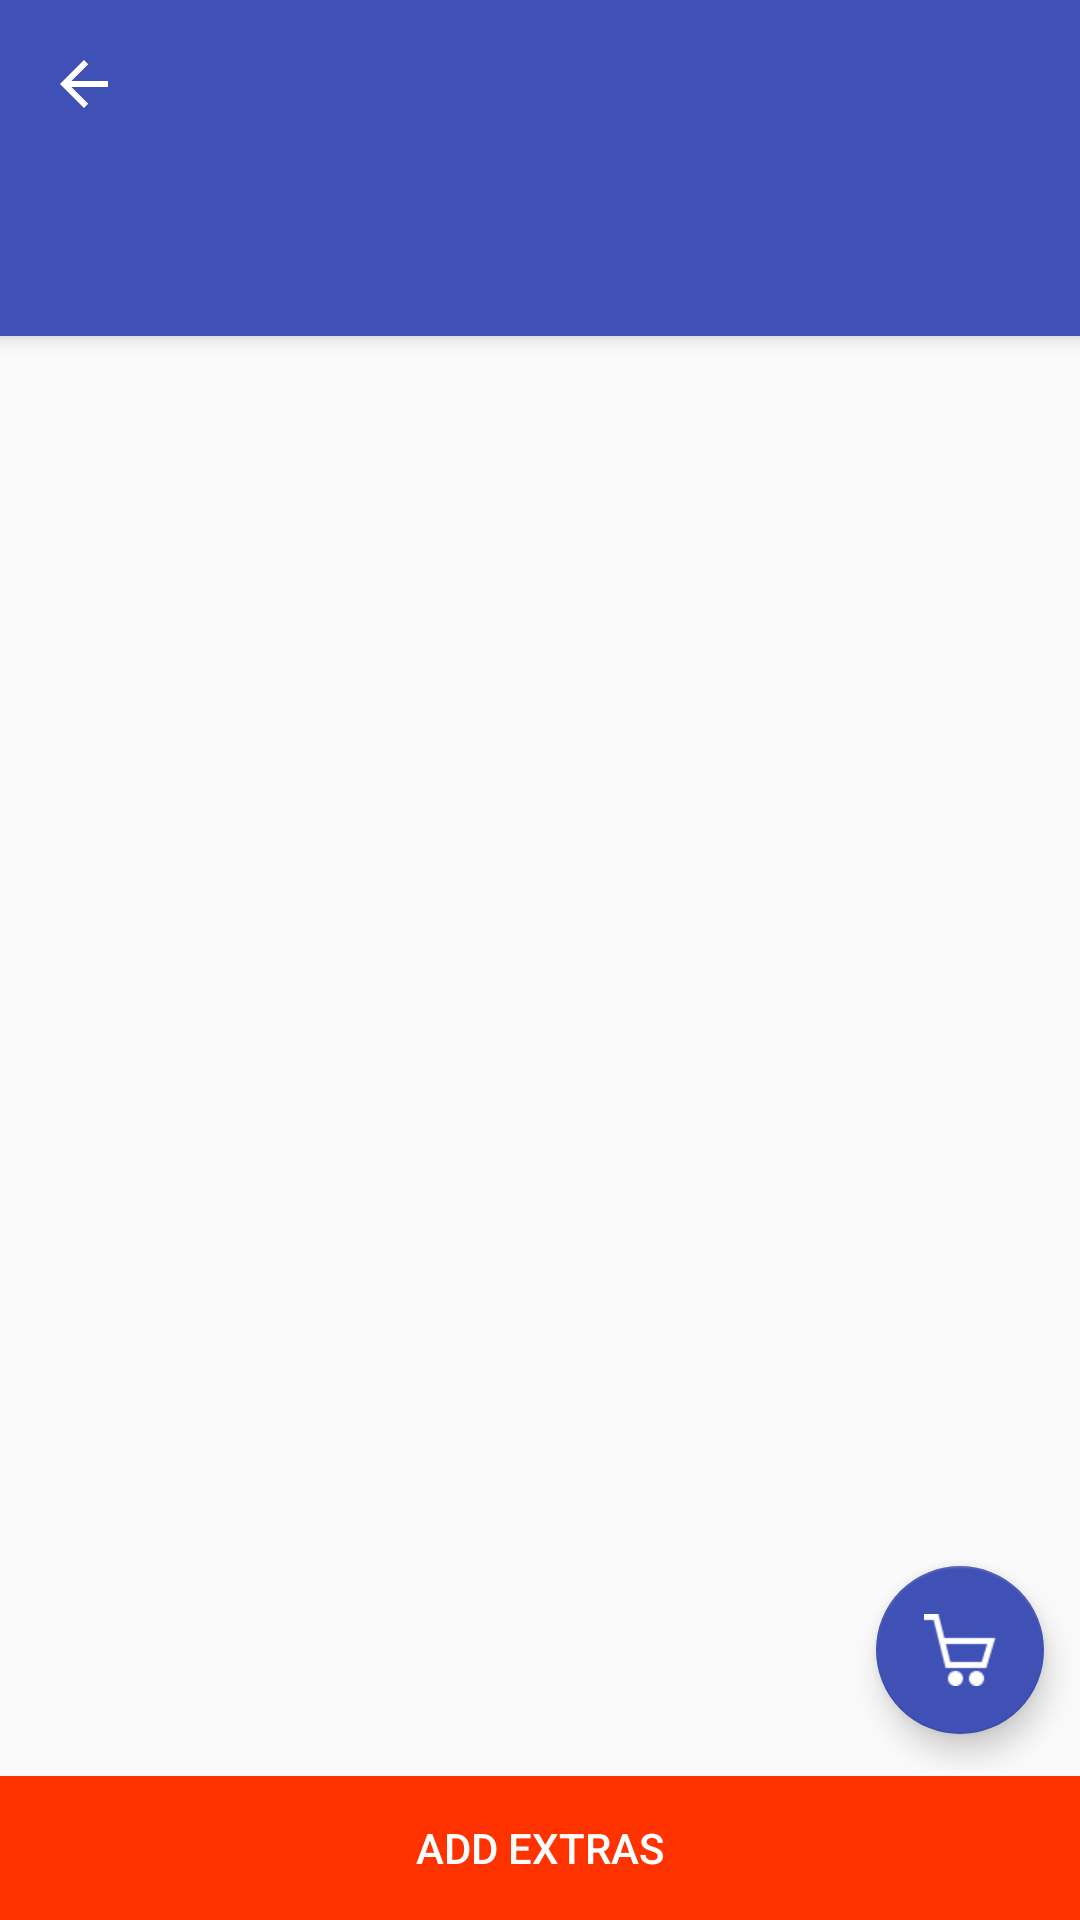

Icons on this 1080 x 1920 Android screen, each with its box as (x1, y1, x2, y2):
empty cart: (876, 1566, 1044, 1734)
